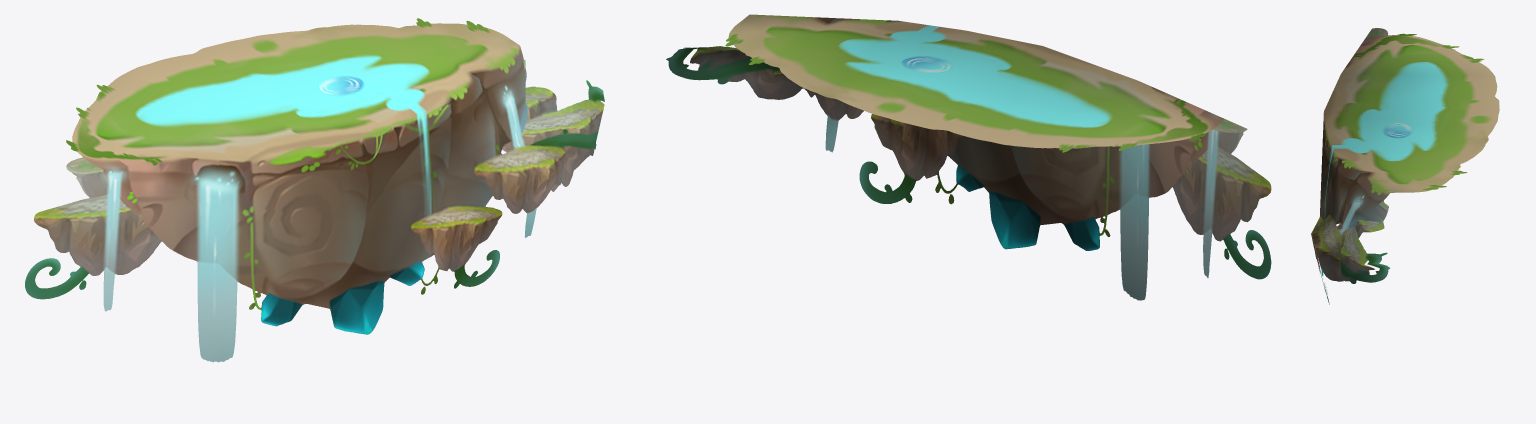
Rendered from Chapter5Scene1Model6.FBX.
The picture shows the model from 3 angles, left to right: view 1: azimuth 30°, elevation 25°; view 2: azimuth 150°, elevation 25°; view 3: azimuth 270°, elevation 25°; orthographic projection. The views are drawn at different scales.
Visible parts, largest first — view 1: Chapter5Scene1Model6; view 2: Chapter5Scene1Model6; view 3: Chapter5Scene1Model6.
Boxes of the visible parts, bbox=[...] form: Chapter5Scene1Model6: bbox=[25, 18, 604, 362]; Chapter5Scene1Model6: bbox=[666, 14, 1271, 300]; Chapter5Scene1Model6: bbox=[1311, 28, 1499, 304].
Bounding box in the file's own units: 221 × 92.08 × 91.4.
